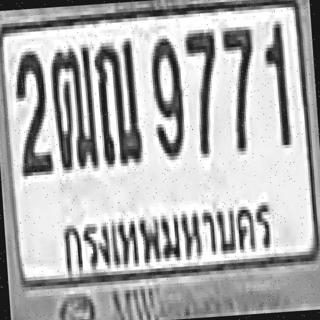A18: (48, 42, 96, 169)
A19: (91, 34, 142, 164)
N01: (262, 19, 289, 144)
N02: (10, 47, 50, 173)
N07: (183, 29, 220, 154), (220, 23, 257, 148)
N09: (148, 34, 184, 157)
P04: (52, 190, 278, 286)
